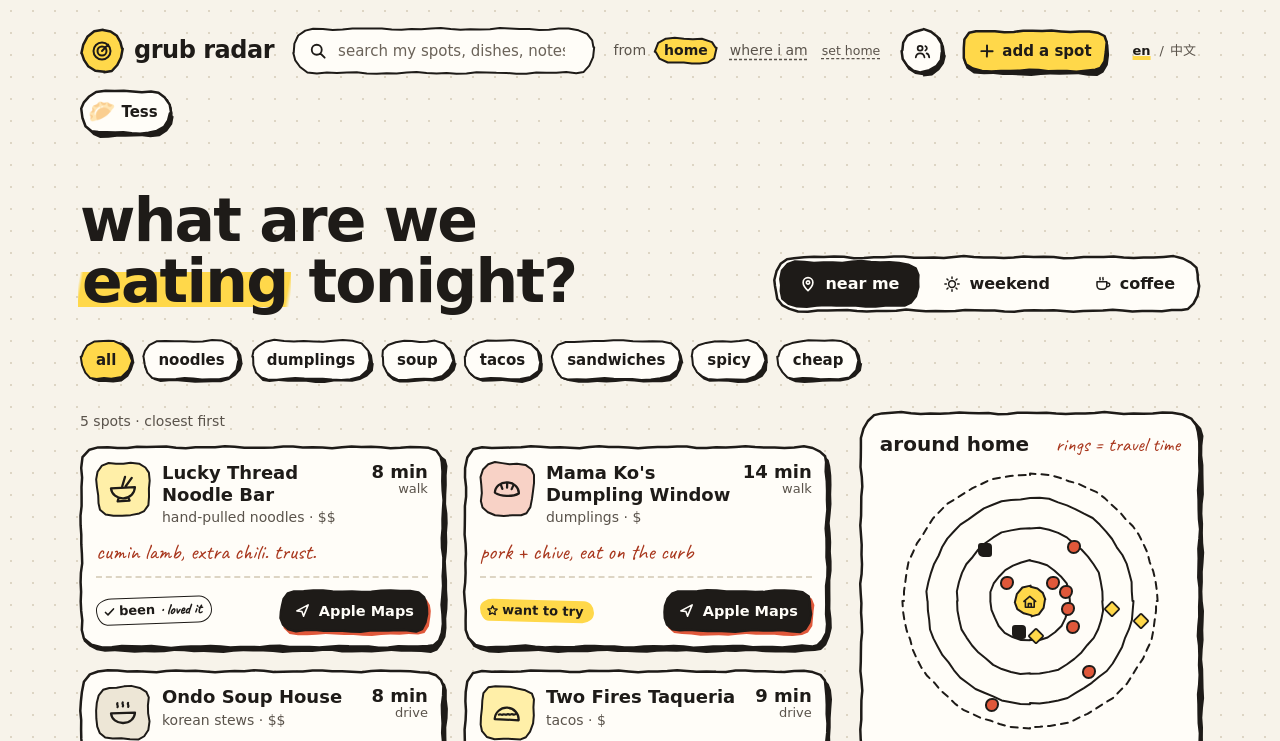
Test case: home, saved to your account › saves a typed lat, lng and measures from it
Click the button "set home".
click(851, 51)  # box [820, 39, 882, 63]
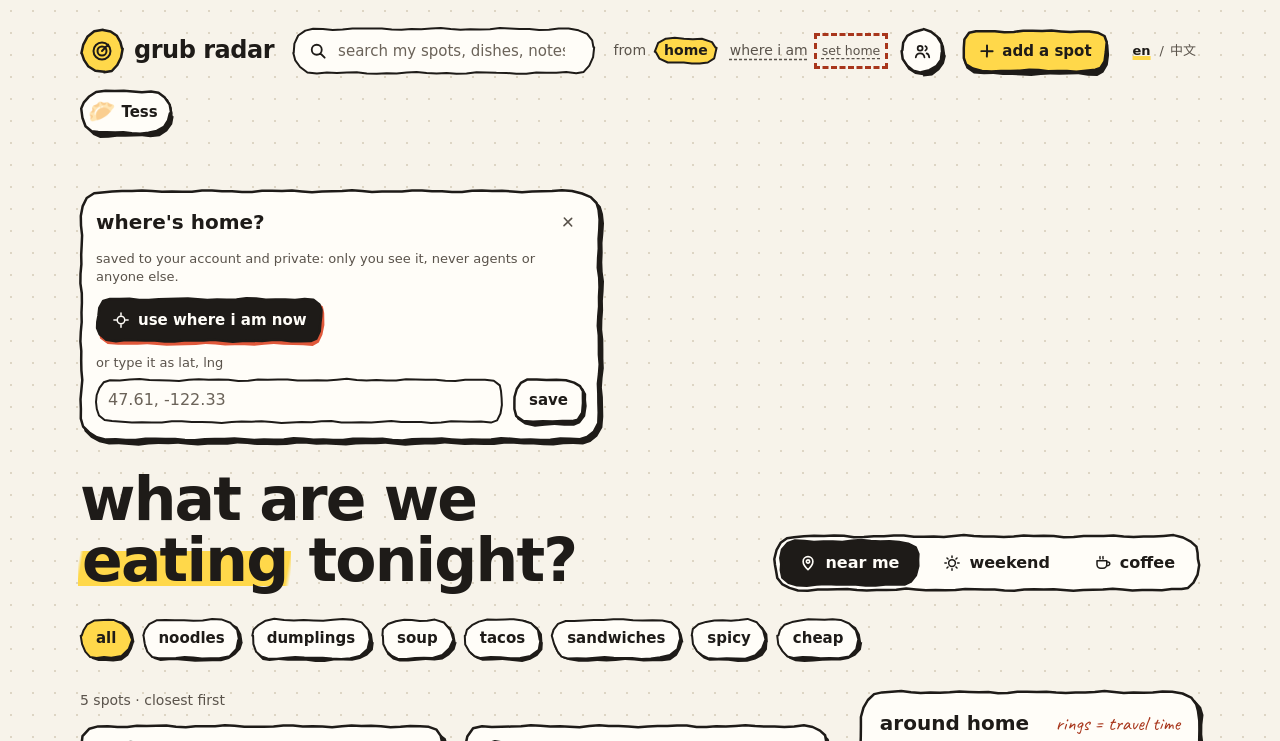
# right outside Two Fires Taqueria
Type "47.6159, -122.3106" into the field labelled "or type it as lat, lng".
click(300, 401); type("47.6159, -122.3106")  # box [96, 379, 503, 423]
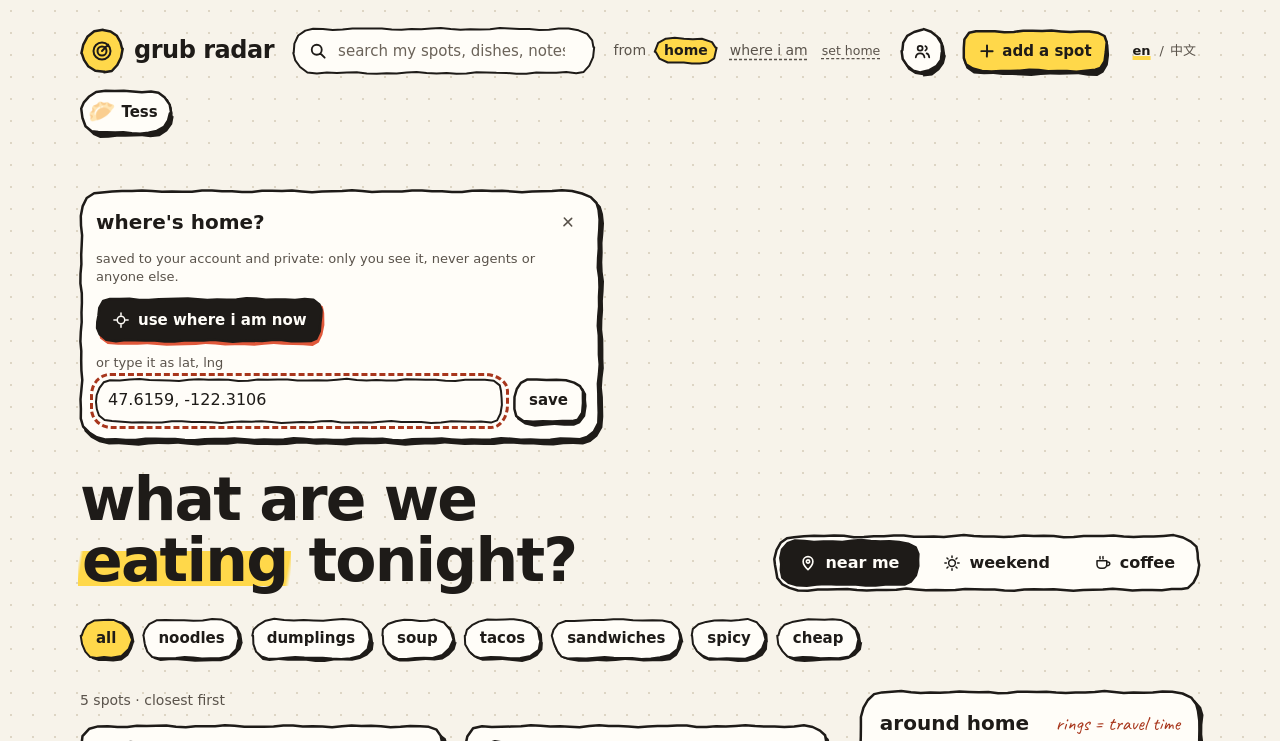
Click the button "save".
click(548, 401)  # box [513, 379, 584, 423]
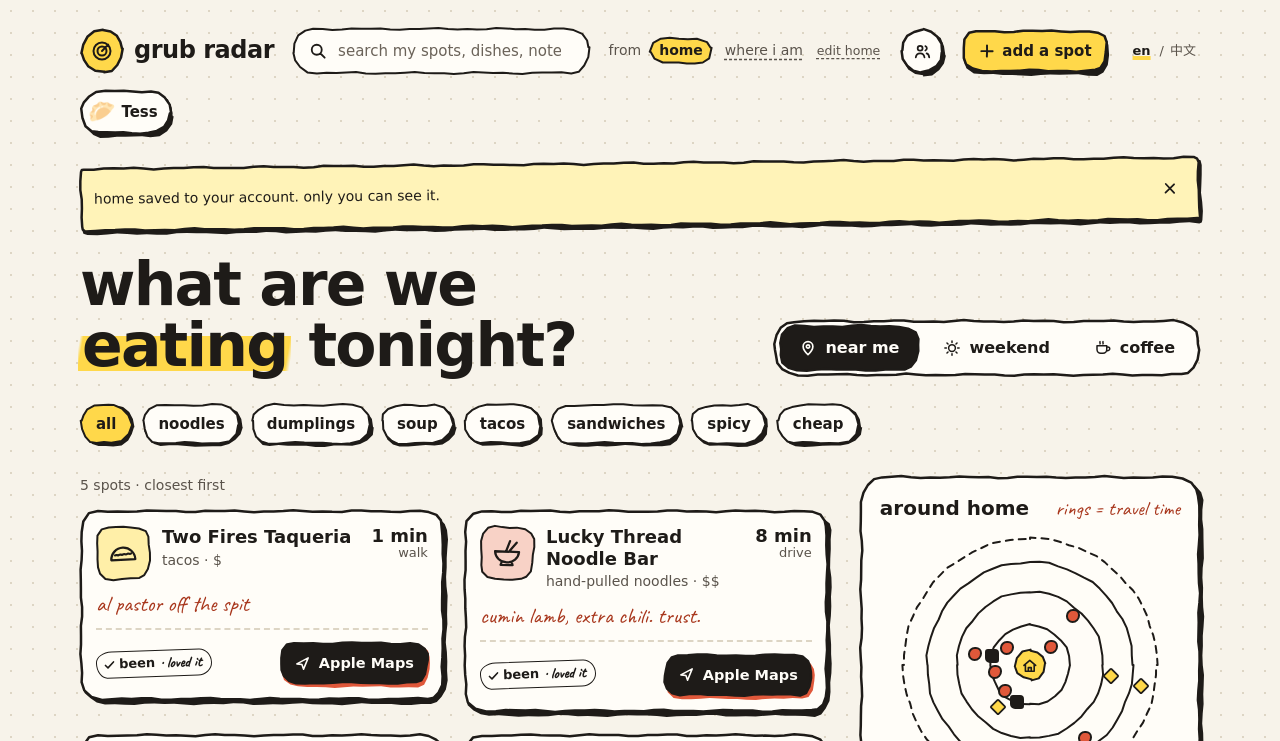
Check: the heading "where's home?" is gone
Check: the message shows "home saved to your account", box [94, 187, 440, 207]
Check: the text "1 min" is shown, box [371, 526, 428, 546]
